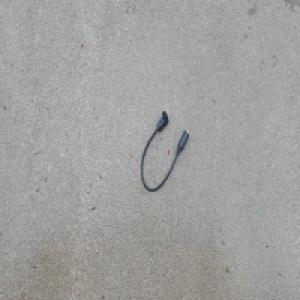Wire: (139, 109, 189, 193)
